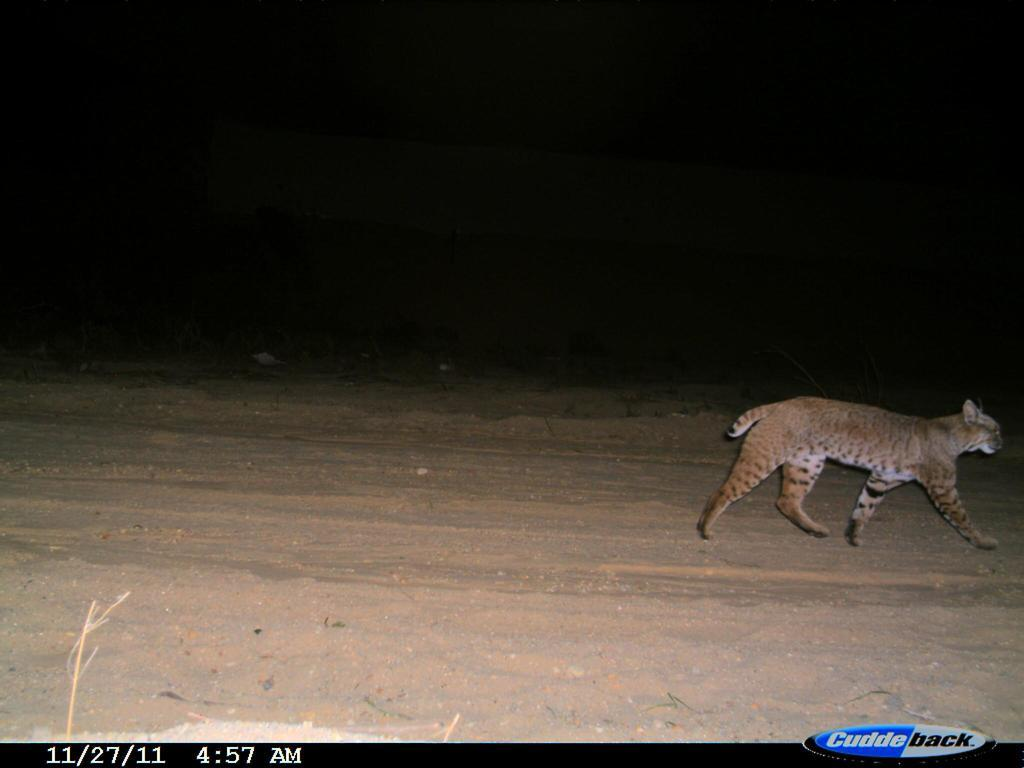bobcat: (679, 356, 1010, 565)
